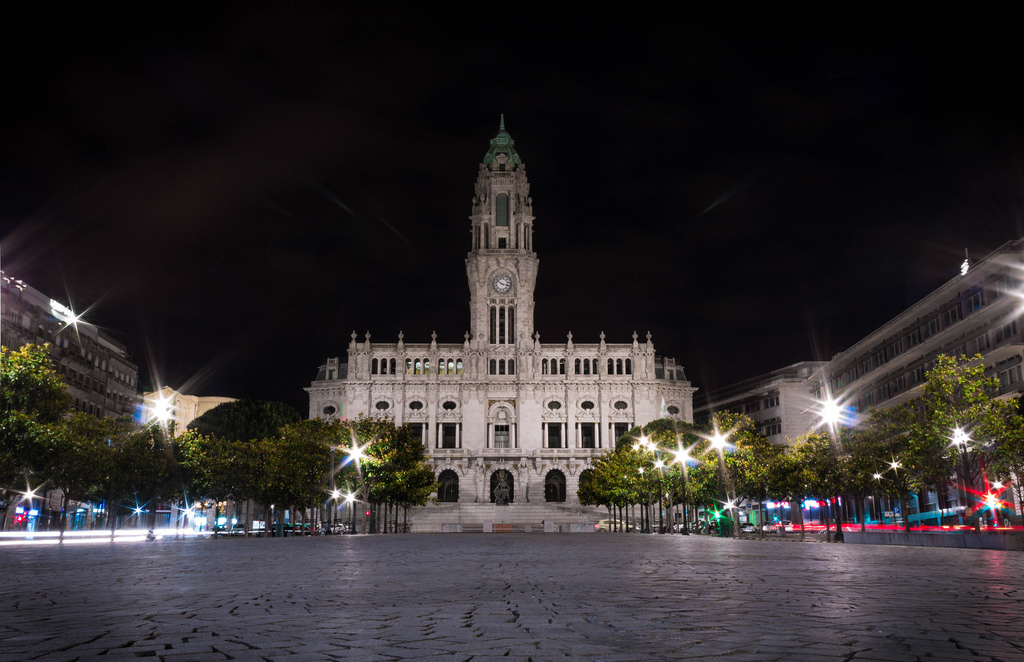camara: (303, 114, 700, 520)
